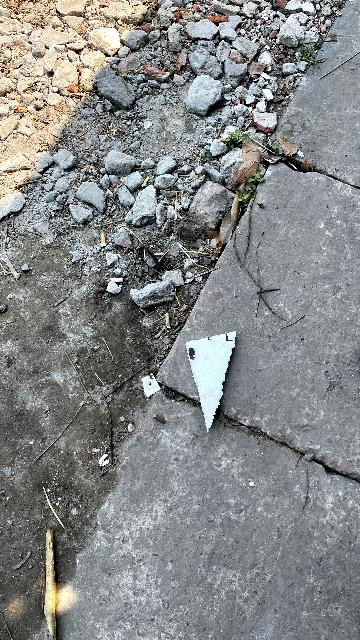cocksheet: (177, 324, 257, 443)
